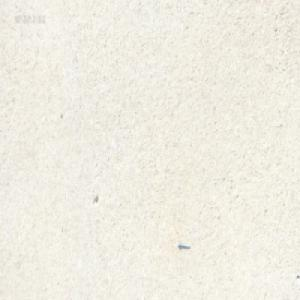Nail: (177, 240, 190, 248)
